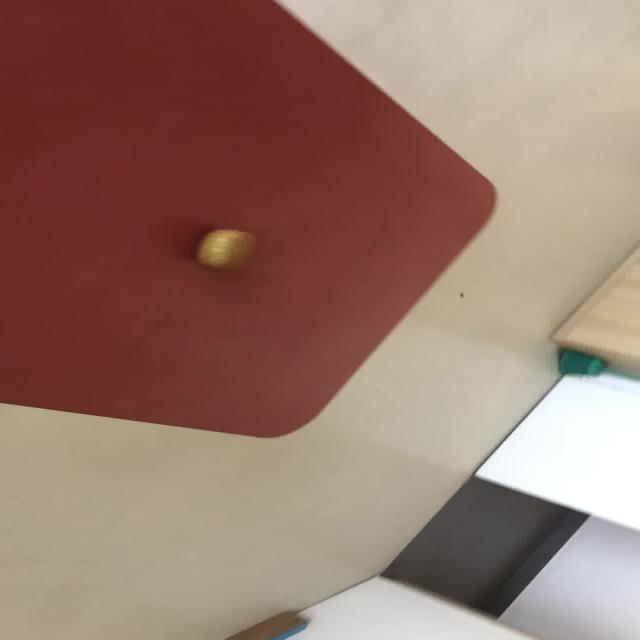kiwi: (194, 228, 254, 269)
